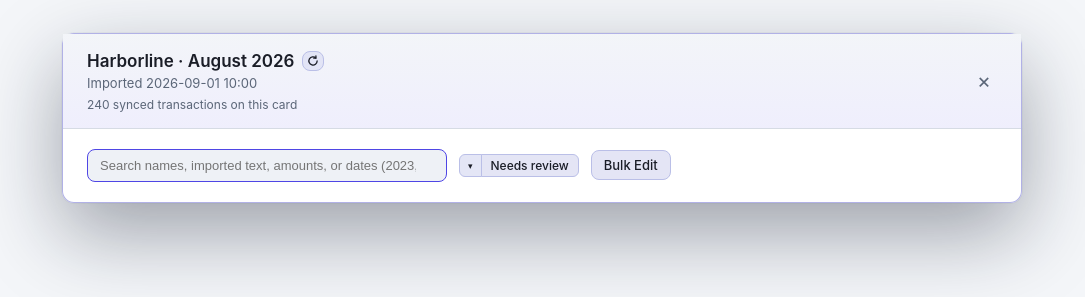
ImportBatchDetail quick filter › calls a data connection card a card, not a file
The width and height of the screenshot is (1085, 297).
Expected: the text "240 synced transactions on this card" is shown, left=87, top=97, right=297, bottom=112
Click the button "Needs review".
click(530, 165)  # box left=480, top=154, right=579, bottom=177
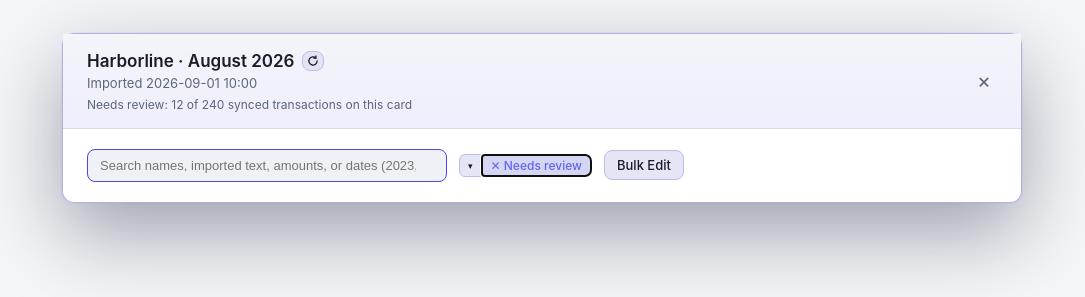
Expected: the text "Needs review: 12 of 240 synced transactions on this card" is shown, left=87, top=97, right=412, bottom=112
